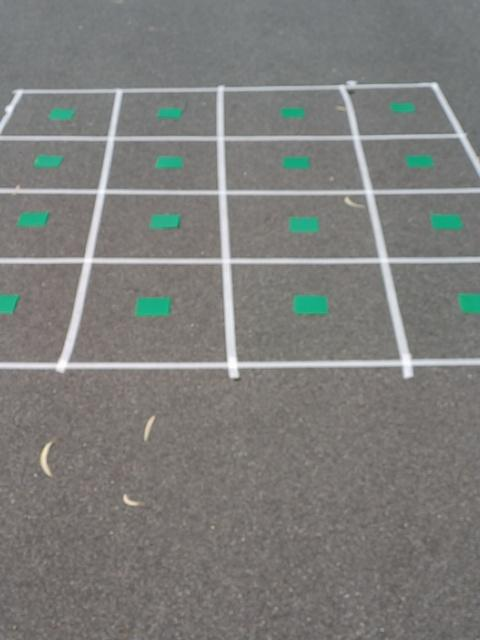weed: (132, 297, 172, 315), (292, 295, 329, 313), (0, 292, 27, 316), (16, 210, 52, 228), (429, 212, 463, 231), (457, 290, 480, 317), (149, 213, 183, 230), (286, 216, 321, 232), (404, 153, 435, 168), (154, 155, 185, 169), (48, 106, 78, 120), (279, 105, 307, 119), (388, 101, 418, 114), (36, 154, 64, 167), (283, 156, 311, 169), (156, 107, 187, 118)
